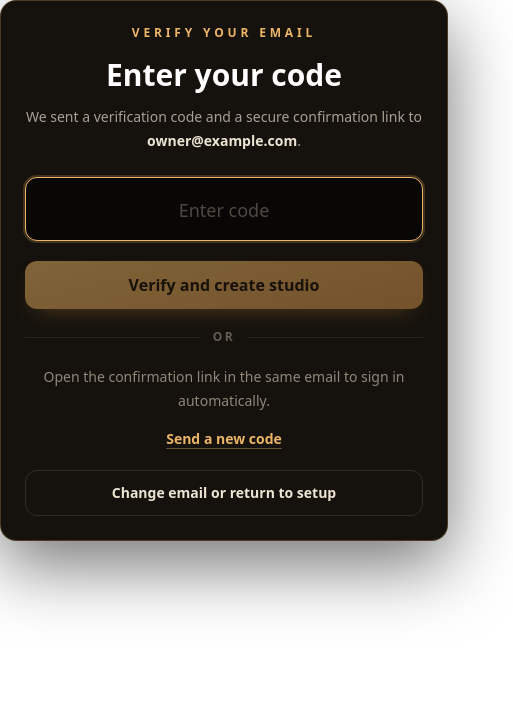
Test: CheckEmailClient › explains a rejected code without claiming it simply expired
The image size is (513, 720).
Type "000000" into the field named "Email verification code" at (224, 209), box [25,177,423,241]
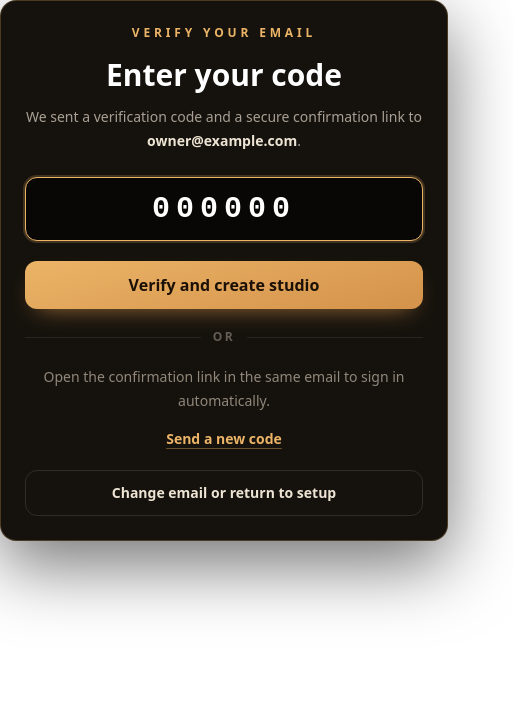
Click the button "Verify and create studio" at (224, 285), box [25,261,423,309]
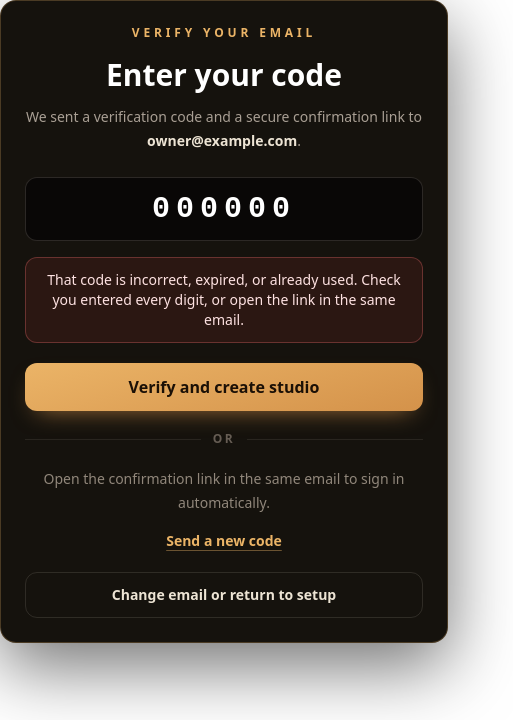
expect the message shows "That code is incorrect, expired, or already used.": met, box [47,270,401,329]
